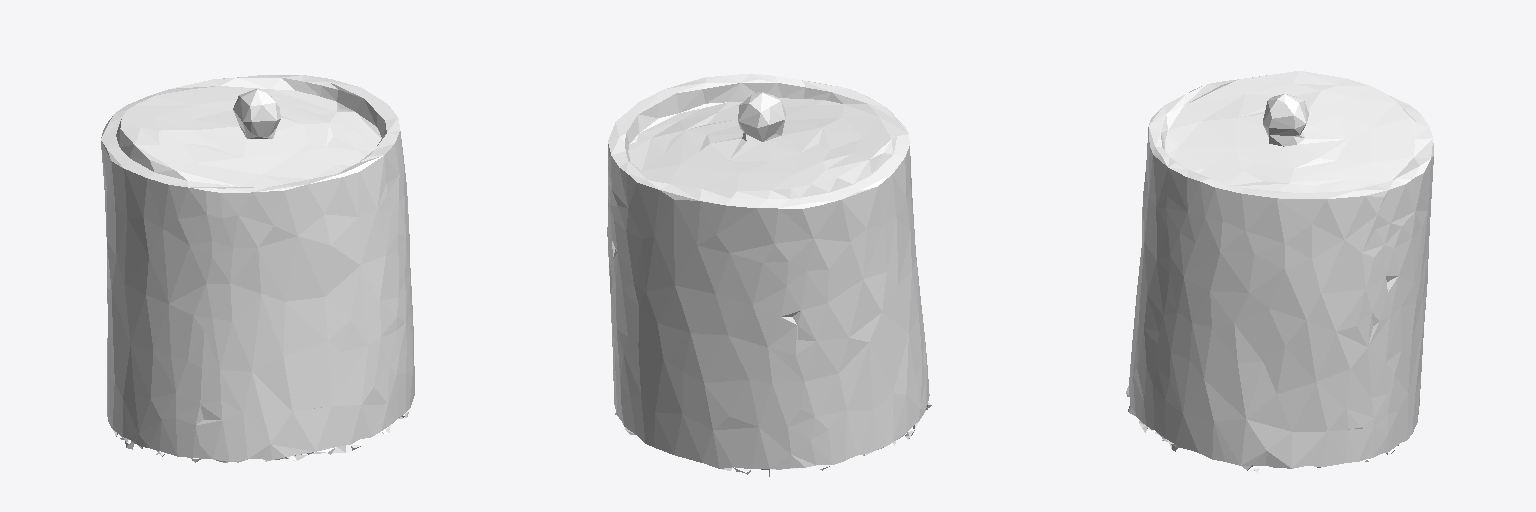
The model's file is Сосуд.obj.
The picture shows the model from 3 angles: view 1: azimuth 30°, elevation 25°; view 2: azimuth 150°, elevation 25°; view 3: azimuth 270°, elevation 25°; orthographic projection.
Bounding box in the file's own units: 1.3 × 1.47 × 1.25.